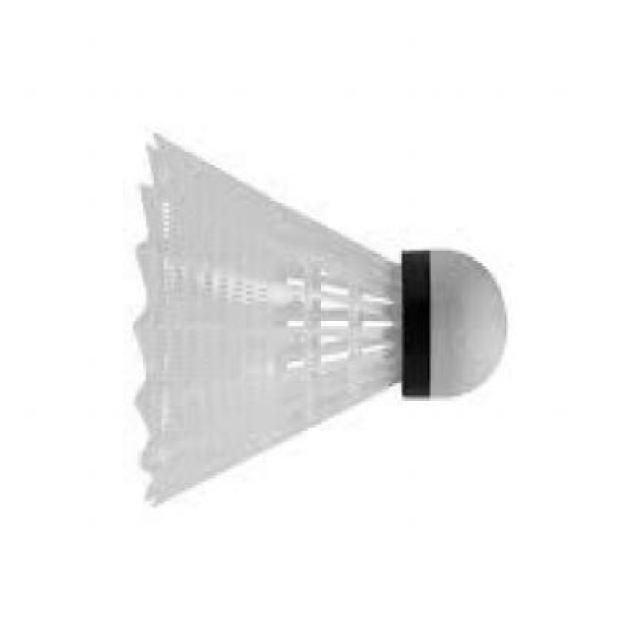Shuttlecock: (137, 131, 509, 511)
